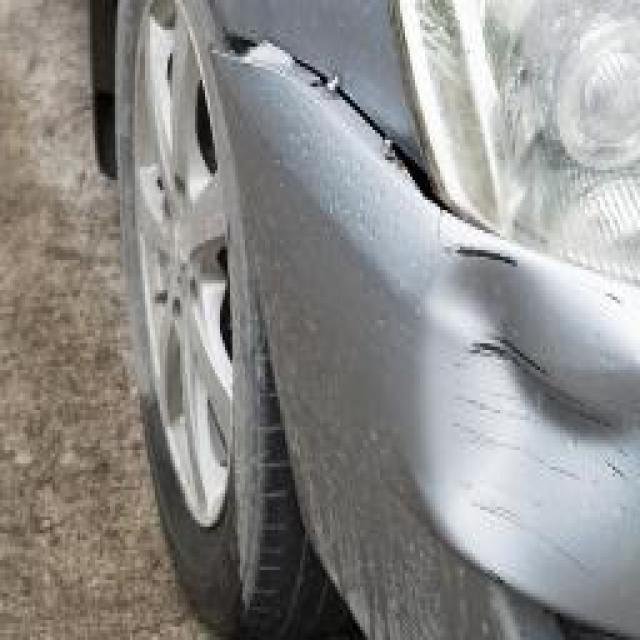Bumper: (208, 33, 640, 640)
